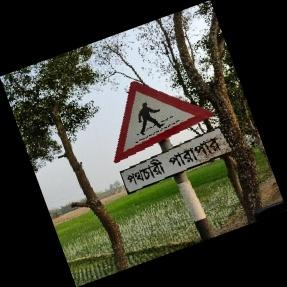Pedestrian-crossing: (113, 81, 231, 202)
